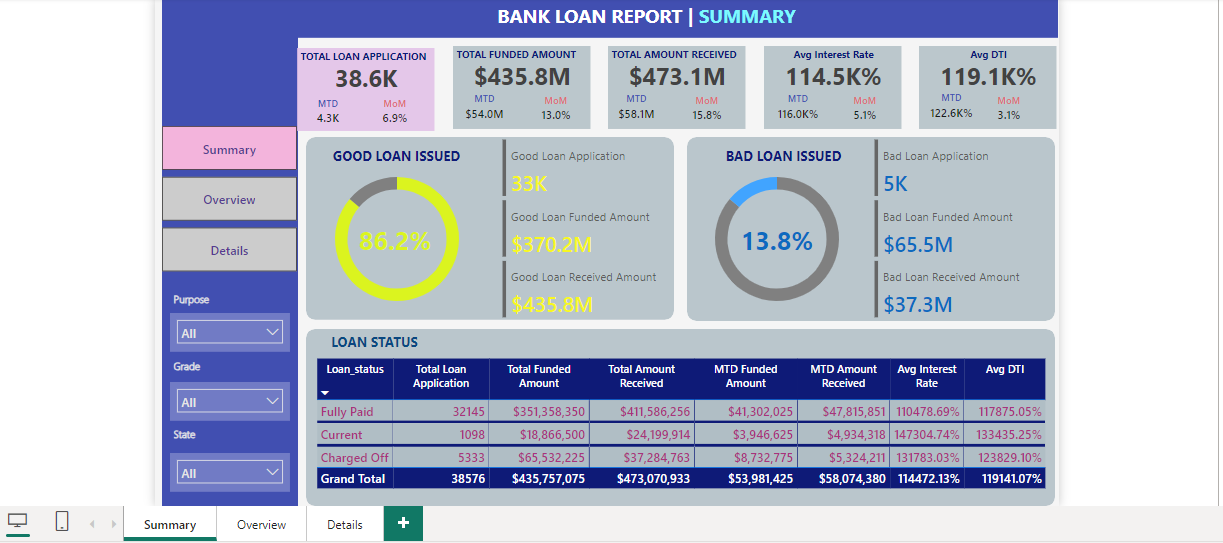

This screenshot's page, from the dashboard's own definition file:
{"tool":"powerbi","page":{"name":"Summary","canvas":[1280,720],"ordinal":0},"visuals":[{"type":"shape","box":[9.9,55.3,192.8,664.7],"z":0},{"type":"shape","box":[422,68.7,194.9,117.6],"z":0,"group":"g2"},{"type":"shape","box":[642.3,68.7,194.9,117.6],"z":0,"group":"g3"},{"type":"shape","box":[862.7,68.7,194.9,117.6],"z":0,"group":"g4"},{"type":"shape","box":[1083.1,68.7,194.9,117.6],"z":0,"group":"g5"},{"type":"shape","box":[201.6,71.5,194.9,117.6],"z":0,"group":"g1"},{"type":"shape","box":[10.1,1.7,1269.9,55.4],"z":1000},{"type":"textbox","box":[421.7,65.2,197,45.4],"z":1000,"group":"g2"},{"type":"textbox","box":[642,65.2,197,45.4],"z":1000,"group":"g3"},{"type":"textbox","box":[862.4,65.2,197,45.4],"z":1000,"group":"g4"},{"type":"textbox","box":[1082.8,65.2,197,45.4],"z":1000,"group":"g5"},{"type":"textbox","box":[201.3,68,197,45.4],"z":1000,"group":"g1"},{"type":"card","fields":{"Values":["Bank_loan_Data.Total Funded Amount"]},"box":[421.7,85,195.6,51],"z":2000,"group":"g2"},{"type":"card","fields":{"Values":["Bank_loan_Data.Total Funded Received"]},"box":[642,85,195.6,51],"z":2000,"group":"g3"},{"type":"card","fields":{"Values":["Bank_loan_Data.Avg Interest Rate"]},"box":[862.4,85,195.6,51],"z":2000,"group":"g4"},{"type":"card","fields":{"Values":["Bank_loan_Data.Avg DTI"]},"box":[1082.8,85,195.6,51],"z":2000,"group":"g5"},{"type":"card","fields":{"Values":["Bank_loan_Data.Total Loan Application"]},"box":[201.3,87.8,195.6,51],"z":2000,"group":"g1"},{"type":"shape","box":[214,197,521.6,259.4],"z":2000},{"type":"card","title":"MTD","fields":{"Values":["Bank_loan_Data.MTD Average DTI"]},"box":[1092.4,131.5,72.3,49.6],"z":3000,"group":"g5"},{"type":"card","title":"MTD","fields":{"Values":["Bank_loan_Data.MTD Funded Amount"]},"box":[433.1,133,66.6,49.6],"z":3000,"group":"g2"},{"type":"card","title":"MTD","fields":{"Values":["Bank_loan_Data.MTD Funded Received"]},"box":[646.8,133,72.3,49.6],"z":3000,"group":"g3"},{"type":"card","title":"MTD","fields":{"Values":["Bank_loan_Data.MTD Average Interest Rate"]},"box":[875.8,133,70.9,49.6],"z":3000,"group":"g4"},{"type":"card","title":"MTD","fields":{"Values":["Bank_loan_Data.MTD Loan Applications"]},"box":[216.5,140.4,56.7,45.4],"z":3000,"group":"g1"},{"type":"textbox","box":[218.3,205.5,248,45.4],"z":3000},{"type":"textbox","box":[475.4,1.7,443.5,57.1],"z":4000},{"type":"card","title":"MoM","fields":{"Values":["Bank_loan_Data.MoM Funded Amount"]},"box":[539.4,135.8,56.7,45.4],"z":4000,"group":"g2"},{"type":"card","title":"MoM","fields":{"Values":["Bank_loan_Data.MoM Funded Received"]},"box":[754.5,135.8,56.7,45.4],"z":4000,"group":"g3"},{"type":"card","title":"MoM","fields":{"Values":["Bank_loan_Data.MoM Avg Int Rate"]},"box":[977.8,135.8,56.7,45.4],"z":4000,"group":"g4"},{"type":"card","title":"MoM","fields":{"Values":["Bank_loan_Data.MoM Avg DTI"]},"box":[1182,136.1,56.7,45.4],"z":4000,"group":"g5"},{"type":"card","title":"MoM","fields":{"Values":["Bank_loan_Data.MoM Loan Application"]},"box":[311.5,140.4,56.7,45.4],"z":4000,"group":"g1"},{"type":"card","fields":{"Values":["Bank_loan_Data.Good Loan %"]},"box":[276.4,317.5,127.6,51],"z":5000},{"type":"group","id":"g1","title":"Group 1","box":[201.3,68,197,120.5],"z":6000},{"type":"group","id":"g2","title":"Group 1","box":[421.7,65.2,197,121.1],"z":7000},{"type":"group","id":"g3","title":"Group 1","box":[642,65.2,197,121.1],"z":8000},{"type":"group","id":"g4","title":"Group 1","box":[862.4,65.2,197,121.1],"z":9000},{"type":"group","id":"g5","title":"Group 1","box":[1082.8,65.2,197,120.5],"z":10000},{"type":"donutChart","fields":{"Category":["Bank_loan_Data.Good v Bad Loan"],"Y":["Bank_loan_Data.Total Loan Application"]},"box":[218.3,226.8,249.4,229.6],"z":11000},{"type":"shape","box":[754,197,521.6,260.8],"z":12000},{"type":"cardVisual","fields":{"Data":["Bank_loan_Data.Good Loan Application","Bank_loan_Data.Good Loan Funded Amount","Bank_loan_Data.Good Loan Received Amount"]},"box":[487.6,195.6,248,262.2],"z":13000},{"type":"shape","box":[214,469.1,1061.6,250.9],"z":14000},{"type":"donutChart","fields":{"Category":["Bank_loan_Data.Good v Bad Loan"],"Y":["Bank_loan_Data.Total Loan Application"]},"box":[756.9,226.8,249.4,229.6],"z":15000},{"type":"textbox","box":[766.8,205.5,248,45.4],"z":16000},{"type":"card","fields":{"Values":["Bank_loan_Data.Bad Loan %"]},"box":[817.8,317.5,127.6,51],"z":17000},{"type":"cardVisual","fields":{"Data":["Bank_loan_Data.Bad Loan Application","Bank_loan_Data.Bad Loan Funded Amount","Bank_loan_Data.Bad Loan Received Amount"]},"box":[1014.8,195.6,248,262.2],"z":18000},{"type":"tableEx","fields":{"Values":["Bank_loan_Data.loan_status","Bank_loan_Data.Total Loan Application","Bank_loan_Data.Total Funded Amount","Bank_loan_Data.Total Funded Received","Bank_loan_Data.MTD Funded Amount","Bank_loan_Data.MTD Funded Received","Bank_loan_Data.Avg Interest Rate","Bank_loan_Data.Avg DTI"]},"box":[223.9,506,1053.1,214],"z":19000},{"type":"textbox","box":[218.3,469.1,185.7,45.4],"z":20000},{"type":"slicer","fields":{"Values":["Bank_loan_Data.address_state"]},"box":[21.3,644.9,170.1,55.3],"z":21000},{"type":"textbox","box":[21.3,602.4,95,42.5],"z":22000},{"type":"slicer","fields":{"Values":["Bank_loan_Data.grade"]},"box":[21.3,544.3,170.1,55.3],"z":23000},{"type":"textbox","box":[21.3,506,82.2,38.3],"z":24000},{"type":"slicer","fields":{"Values":["Bank_loan_Data.purpose"]},"box":[21.3,446.5,170.1,55.3],"z":25000},{"type":"textbox","box":[21.3,411,89.3,35.4],"z":26000},{"type":"pageNavigator","box":[9.9,181.4,191.3,206.9],"z":26001}]}

Visuals, with their boxes on the page's 1280x720 design canvas (x1, y1, x2, y2). These are canvas units, not pixel positions in the 1223x543 screenshot, which may show the page scaled, cropped or inside an application window:
shape: {"left": 10, "top": 55, "right": 203, "bottom": 720}
shape: {"left": 422, "top": 69, "right": 617, "bottom": 186}
shape: {"left": 642, "top": 69, "right": 837, "bottom": 186}
shape: {"left": 863, "top": 69, "right": 1058, "bottom": 186}
shape: {"left": 1083, "top": 69, "right": 1278, "bottom": 186}
shape: {"left": 202, "top": 72, "right": 396, "bottom": 189}
shape: {"left": 10, "top": 2, "right": 1280, "bottom": 57}
textbox: {"left": 422, "top": 65, "right": 619, "bottom": 111}
textbox: {"left": 642, "top": 65, "right": 839, "bottom": 111}
textbox: {"left": 862, "top": 65, "right": 1059, "bottom": 111}
textbox: {"left": 1083, "top": 65, "right": 1280, "bottom": 111}
textbox: {"left": 201, "top": 68, "right": 398, "bottom": 113}
card - Bank_loan_Data.Total Funded Amount: {"left": 422, "top": 85, "right": 617, "bottom": 136}
card - Bank_loan_Data.Total Funded Received: {"left": 642, "top": 85, "right": 838, "bottom": 136}
card - Bank_loan_Data.Avg Interest Rate: {"left": 862, "top": 85, "right": 1058, "bottom": 136}
card - Bank_loan_Data.Avg DTI: {"left": 1083, "top": 85, "right": 1278, "bottom": 136}
card - Bank_loan_Data.Total Loan Application: {"left": 201, "top": 88, "right": 397, "bottom": 139}
shape: {"left": 214, "top": 197, "right": 736, "bottom": 456}
"MTD" card: {"left": 1092, "top": 132, "right": 1165, "bottom": 181}
"MTD" card: {"left": 433, "top": 133, "right": 500, "bottom": 183}
"MTD" card: {"left": 647, "top": 133, "right": 719, "bottom": 183}
"MTD" card: {"left": 876, "top": 133, "right": 947, "bottom": 183}
"MTD" card: {"left": 216, "top": 140, "right": 273, "bottom": 186}
textbox: {"left": 218, "top": 206, "right": 466, "bottom": 251}
textbox: {"left": 475, "top": 2, "right": 919, "bottom": 59}
"MoM" card: {"left": 539, "top": 136, "right": 596, "bottom": 181}
"MoM" card: {"left": 754, "top": 136, "right": 811, "bottom": 181}
"MoM" card: {"left": 978, "top": 136, "right": 1034, "bottom": 181}
"MoM" card: {"left": 1182, "top": 136, "right": 1239, "bottom": 182}
"MoM" card: {"left": 312, "top": 140, "right": 368, "bottom": 186}
card - Bank_loan_Data.Good Loan %: {"left": 276, "top": 318, "right": 404, "bottom": 368}
"Group 1" group: {"left": 201, "top": 68, "right": 398, "bottom": 188}
"Group 1" group: {"left": 422, "top": 65, "right": 619, "bottom": 186}
"Group 1" group: {"left": 642, "top": 65, "right": 839, "bottom": 186}
"Group 1" group: {"left": 862, "top": 65, "right": 1059, "bottom": 186}
"Group 1" group: {"left": 1083, "top": 65, "right": 1280, "bottom": 186}
donutChart - Bank_loan_Data.Good v Bad Loan x Bank_loan_Data.Total Loan Application: {"left": 218, "top": 227, "right": 468, "bottom": 456}
shape: {"left": 754, "top": 197, "right": 1276, "bottom": 458}
cardVisual - Bank_loan_Data.Good Loan Application x Bank_loan_Data.Good Loan Funded Amount: {"left": 488, "top": 196, "right": 736, "bottom": 458}
shape: {"left": 214, "top": 469, "right": 1276, "bottom": 720}
donutChart - Bank_loan_Data.Good v Bad Loan x Bank_loan_Data.Total Loan Application: {"left": 757, "top": 227, "right": 1006, "bottom": 456}
textbox: {"left": 767, "top": 206, "right": 1015, "bottom": 251}
card - Bank_loan_Data.Bad Loan %: {"left": 818, "top": 318, "right": 945, "bottom": 368}
cardVisual - Bank_loan_Data.Bad Loan Application x Bank_loan_Data.Bad Loan Funded Amount: {"left": 1015, "top": 196, "right": 1263, "bottom": 458}
tableEx - Bank_loan_Data.loan_status x Bank_loan_Data.Total Loan Application: {"left": 224, "top": 506, "right": 1277, "bottom": 720}
textbox: {"left": 218, "top": 469, "right": 404, "bottom": 514}
slicer - Bank_loan_Data.address_state: {"left": 21, "top": 645, "right": 191, "bottom": 700}
textbox: {"left": 21, "top": 602, "right": 116, "bottom": 645}
slicer - Bank_loan_Data.grade: {"left": 21, "top": 544, "right": 191, "bottom": 600}
textbox: {"left": 21, "top": 506, "right": 104, "bottom": 544}
slicer - Bank_loan_Data.purpose: {"left": 21, "top": 446, "right": 191, "bottom": 502}
textbox: {"left": 21, "top": 411, "right": 111, "bottom": 446}
pageNavigator: {"left": 10, "top": 181, "right": 201, "bottom": 388}
